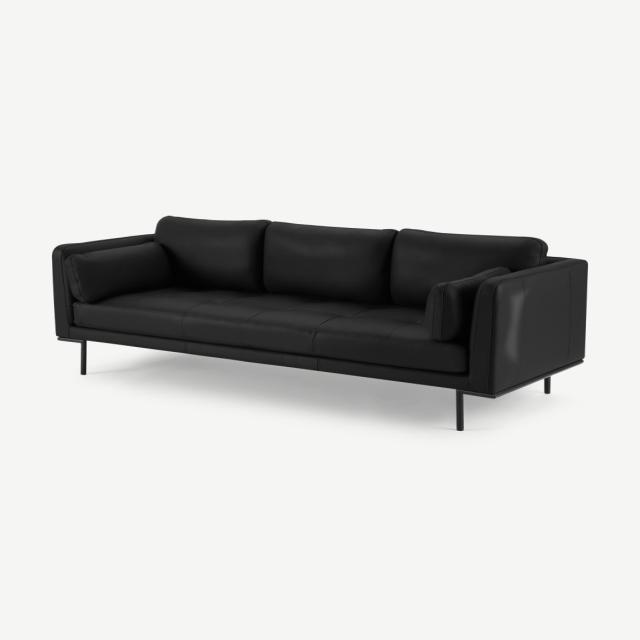back_cushion: (63, 217, 546, 341)
left_arm: (470, 260, 587, 393)
legs: (455, 390, 464, 431), (79, 340, 86, 374), (545, 377, 550, 394)
right_arm: (53, 235, 152, 338)
seat_cushion: (73, 288, 468, 373)
stallion-sofa: (0, 0, 639, 639)
